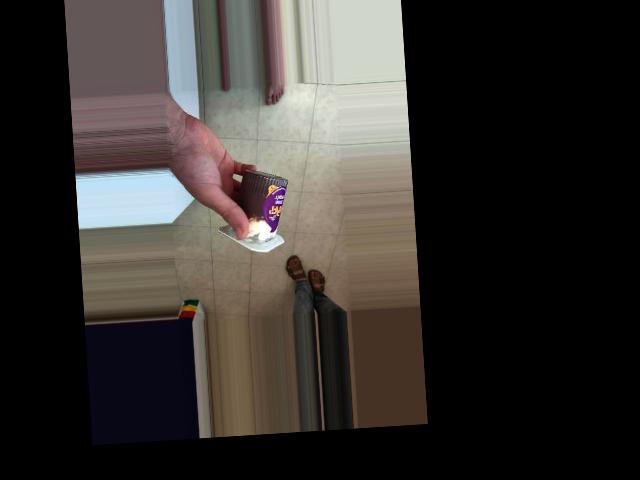milky: (231, 169, 291, 249)
